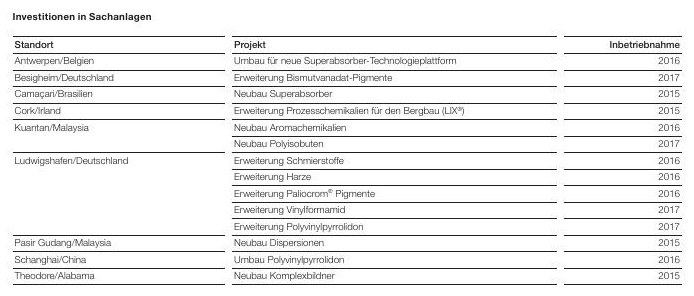table: (0, 0, 694, 296)
